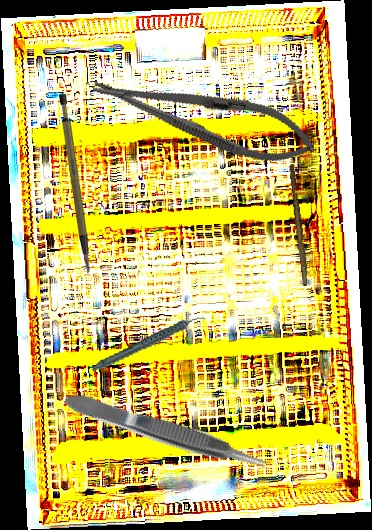Handpiece: (86, 314, 212, 374)
Needle Holder: (86, 57, 322, 176)
Scalpel Handle: (56, 94, 91, 274), (286, 164, 312, 286)
Tissue Forceps: (61, 384, 274, 481)
